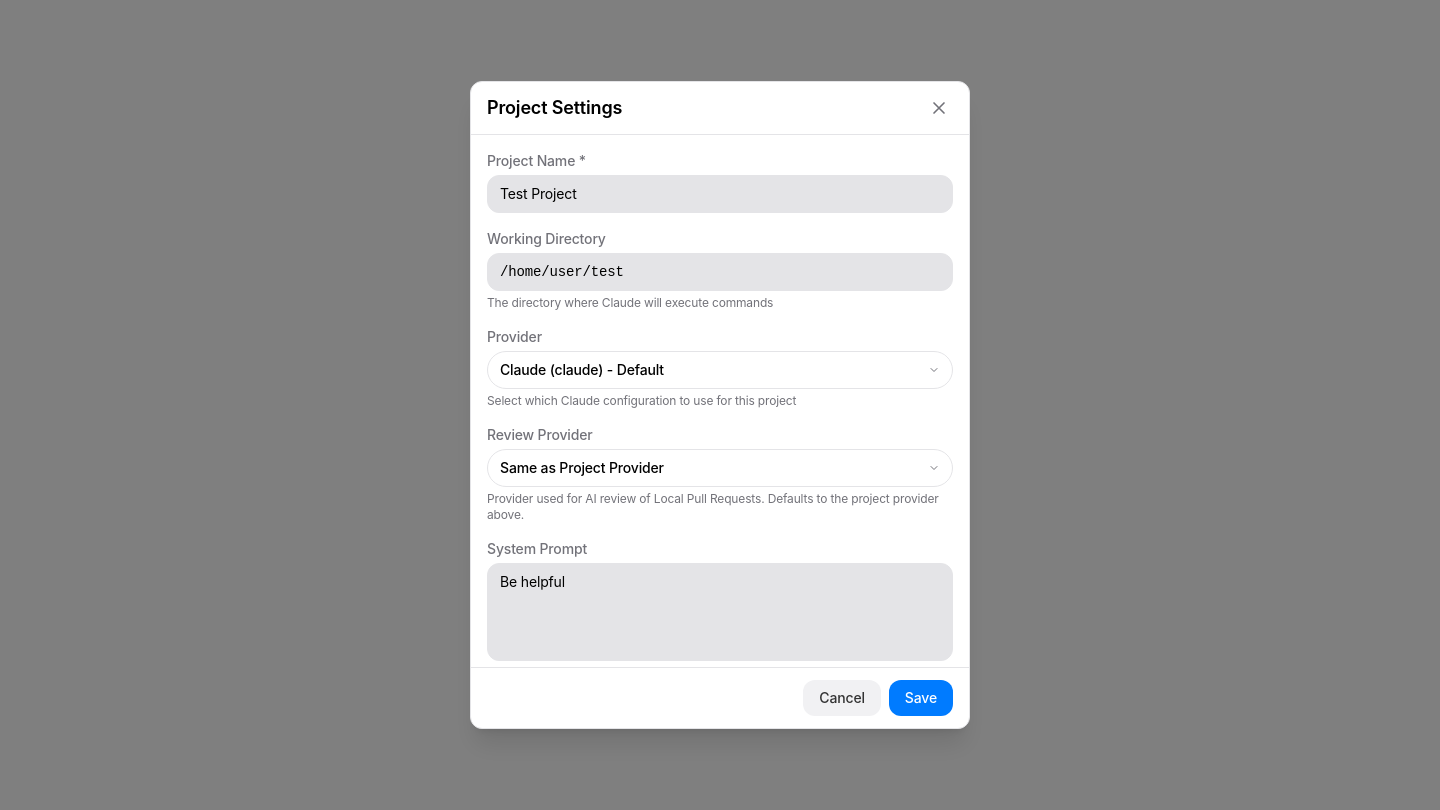
ProjectSettings › shows error message when save fails
Click the button "Save". click: (921,698)
box: [889, 680, 953, 716]
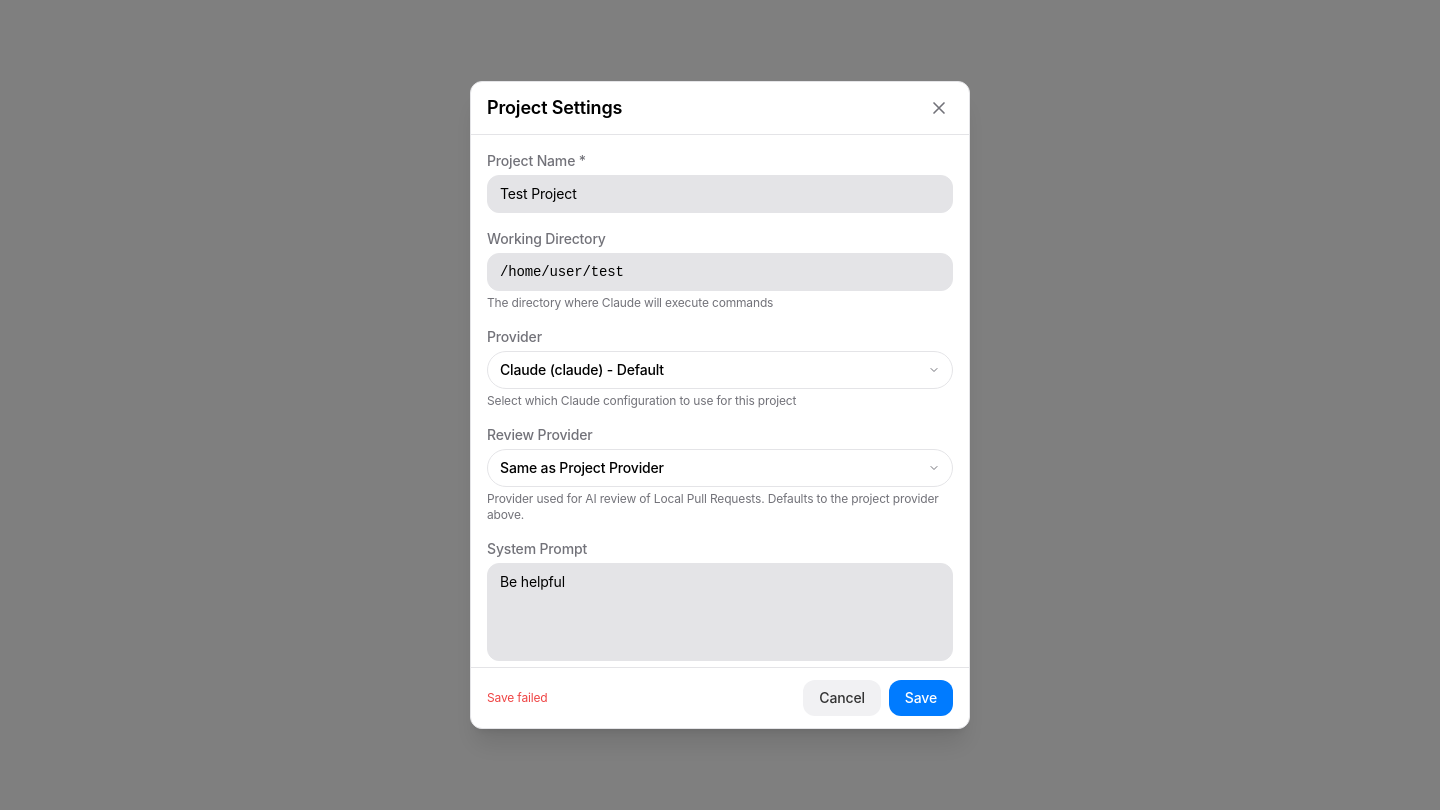
Result: the text "Save failed" is shown at [487, 690, 548, 706]
